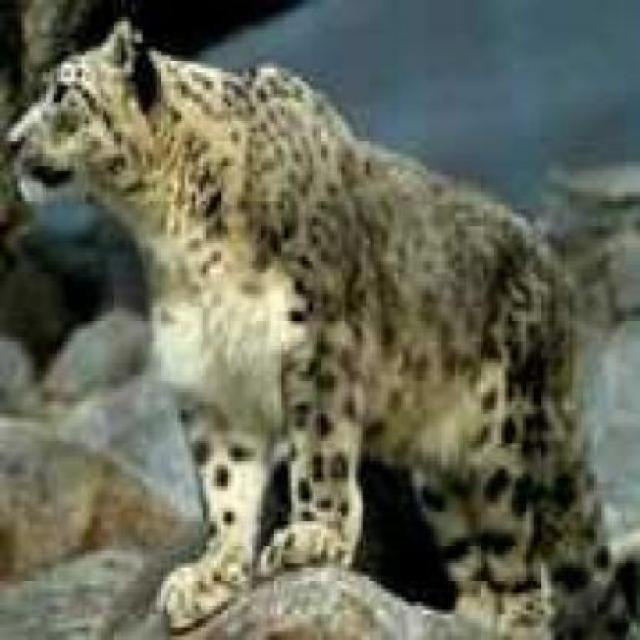Leopard: (0, 15, 612, 638)
